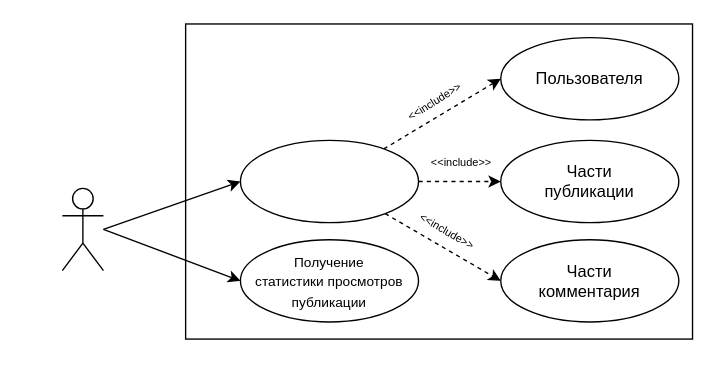
Image size: 717x374. Some labels were removed from this diagram. The shapes that lost their labels are listed below. From the top down, each one's box as (x1, y1, x2, y2) in pixels, then its label:
(239, 139, 419, 223): Блокирование
(61, 187, 103, 271): Администратор
